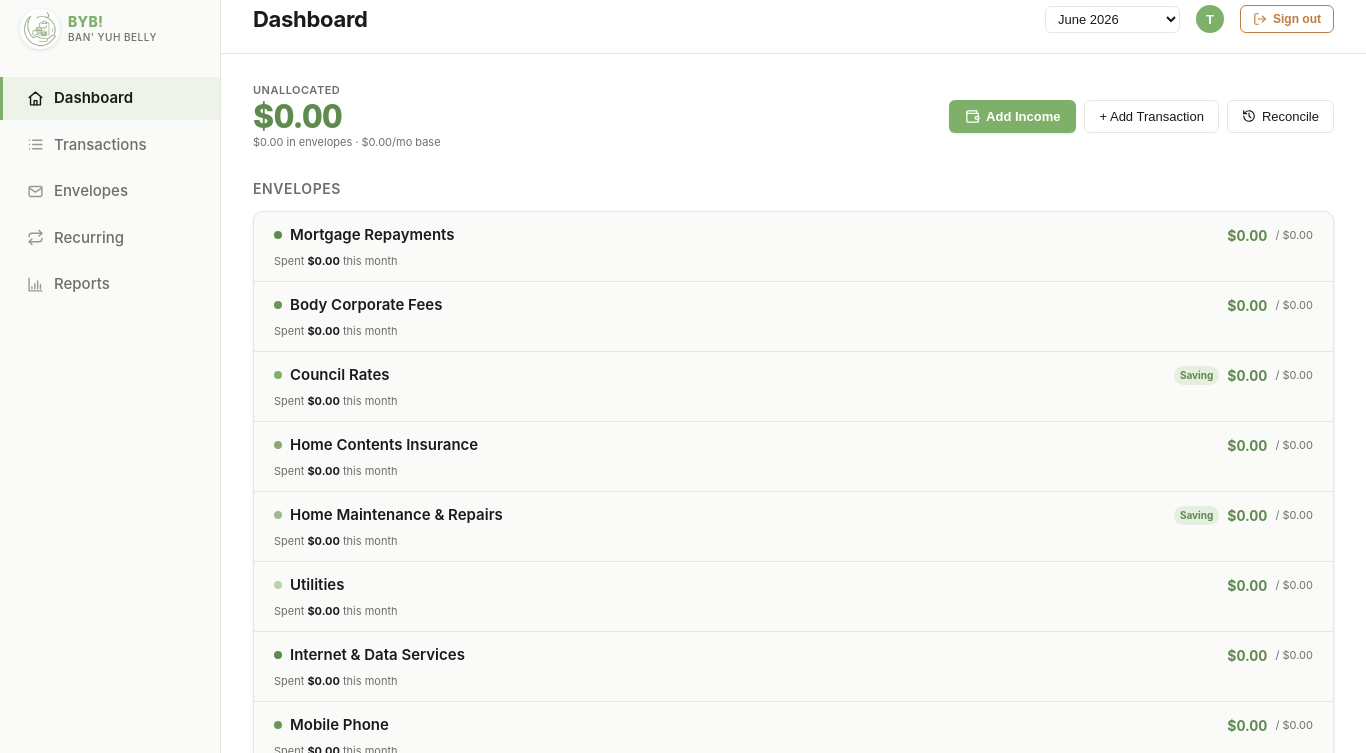
Scenario: Add Income flow › split allocation puts money straight into the chosen envelope
The image size is (1366, 753).
Click the button with test id "add-income-btn": click(1013, 116) [949,100,1076,133]
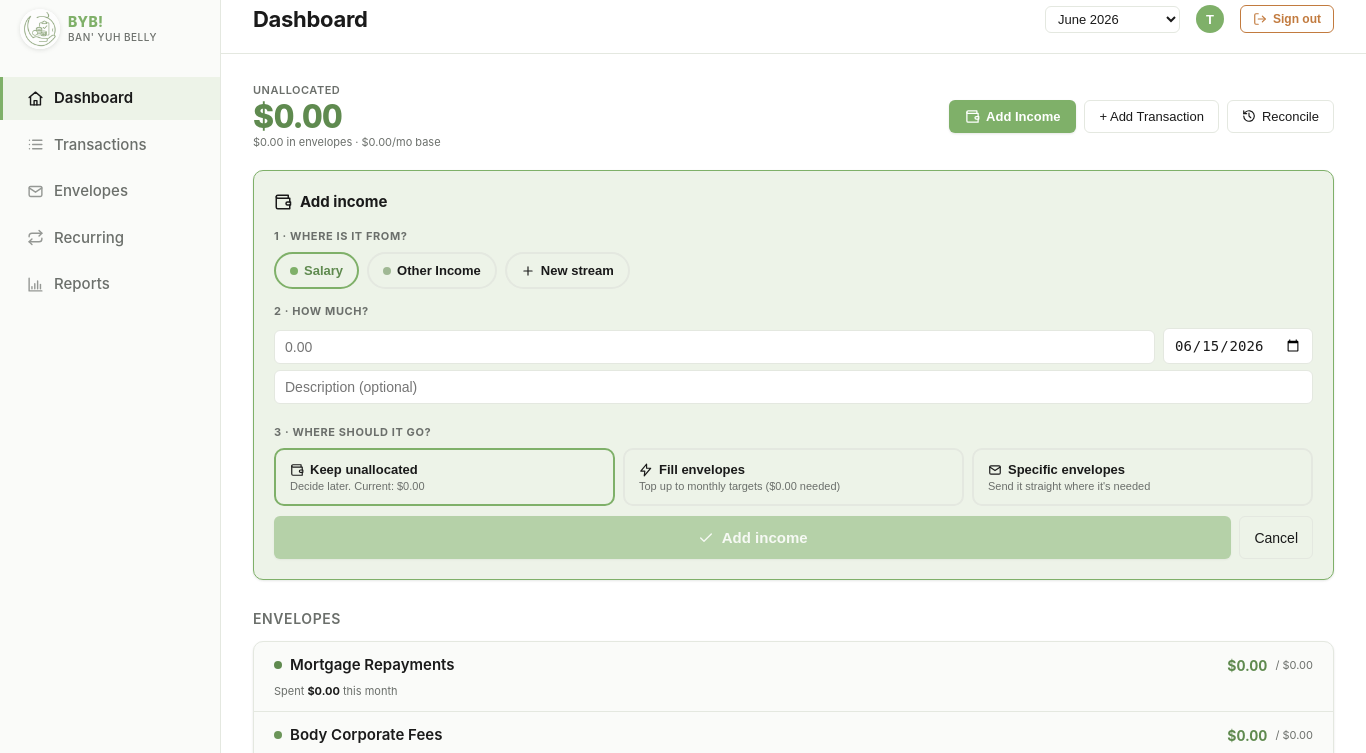
In the number field with test id "income-amount": (714, 347) [274,330,1155,364], type "200"
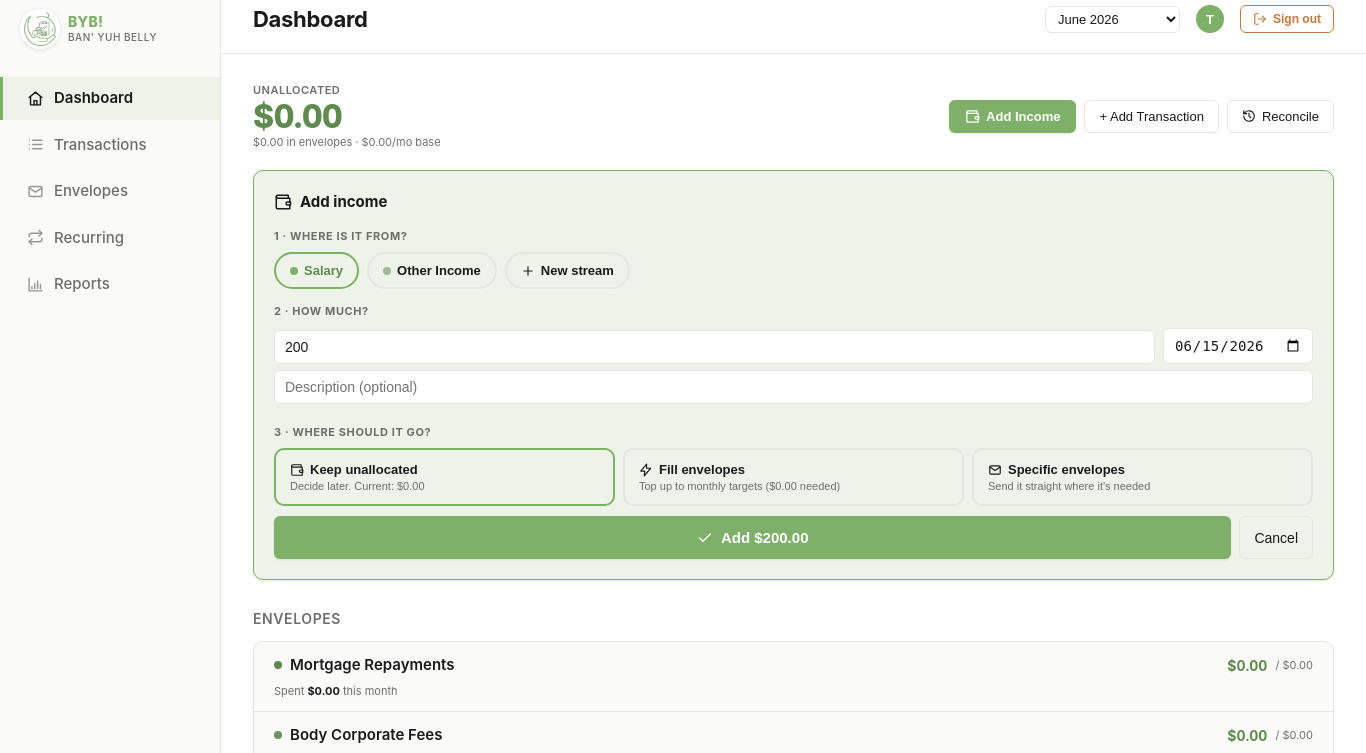
Click the button with test id "alloc-split": click(1142, 477) [972,448,1313,506]
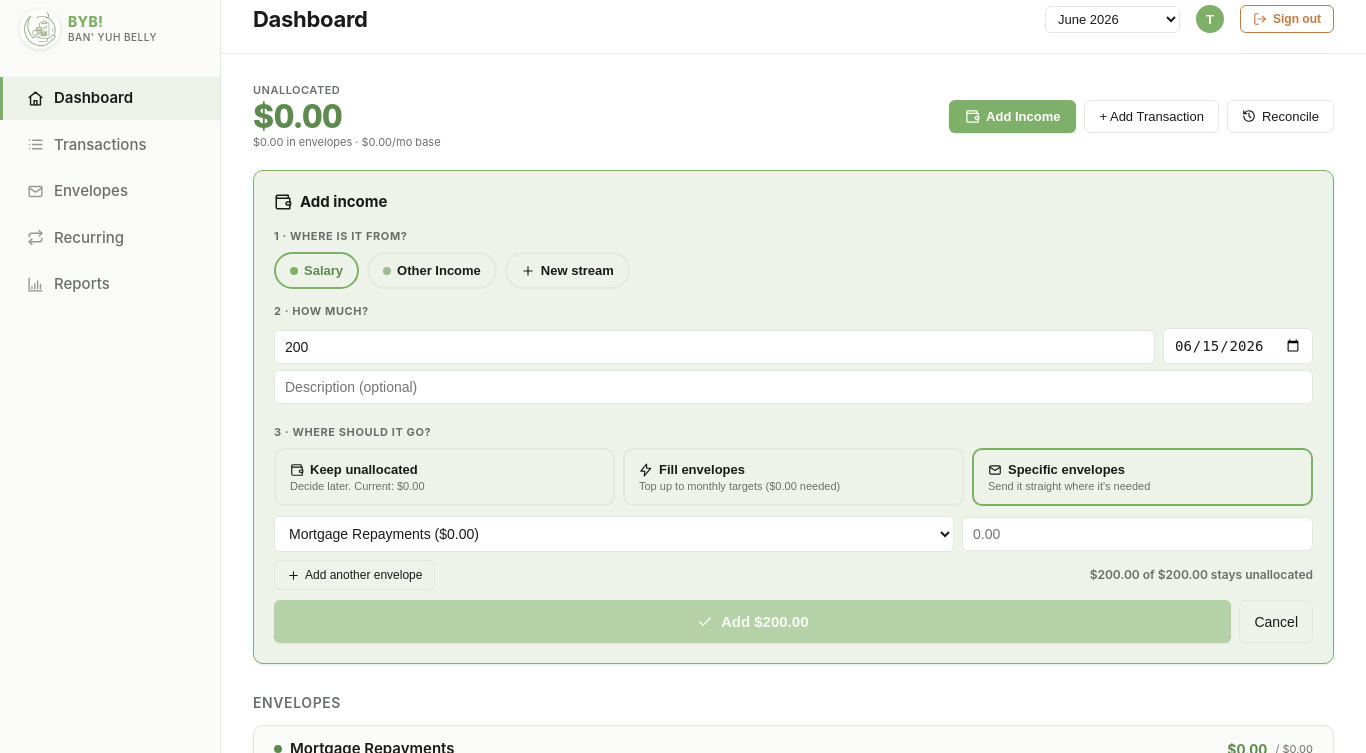
In the number field with placeholder "0.00": (1138, 534) [962,517,1313,551], type "200"
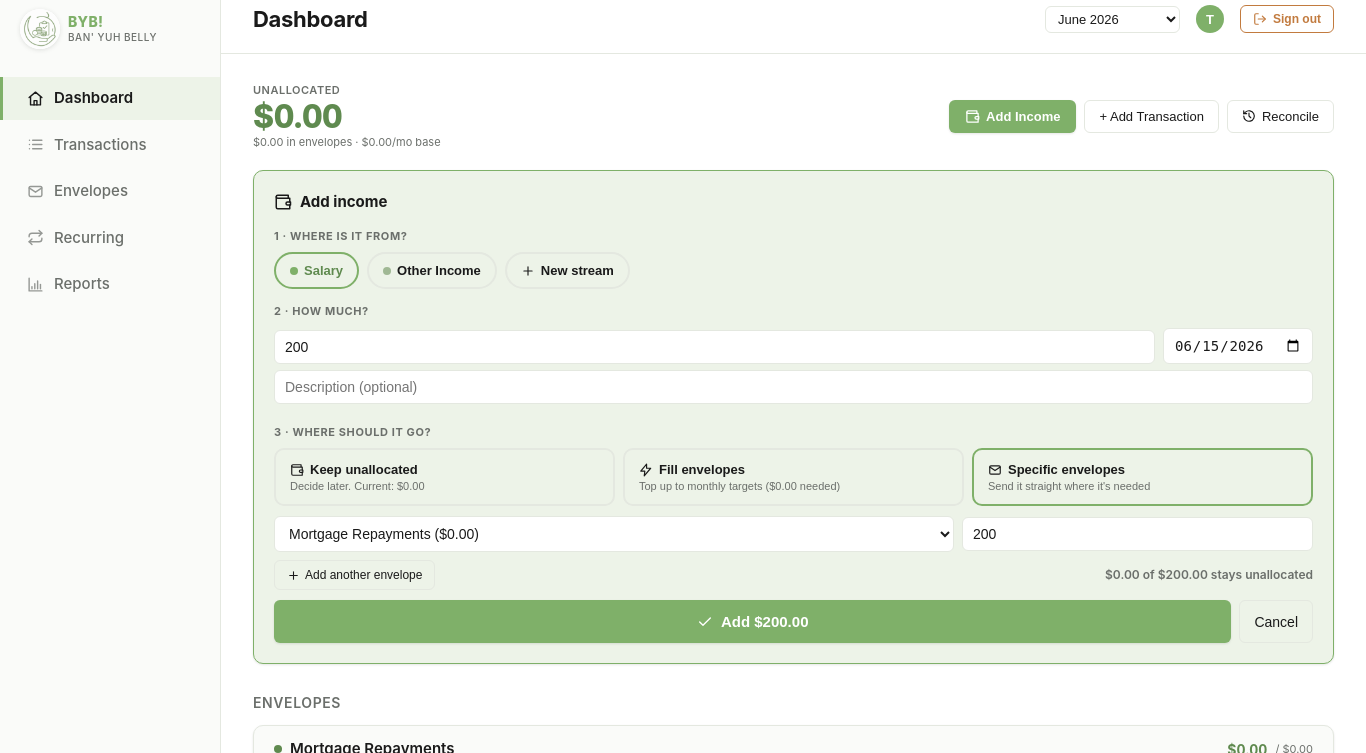
Click the button with test id "income-submit": click(753, 622) [274,600,1231,643]
(page scrolled)
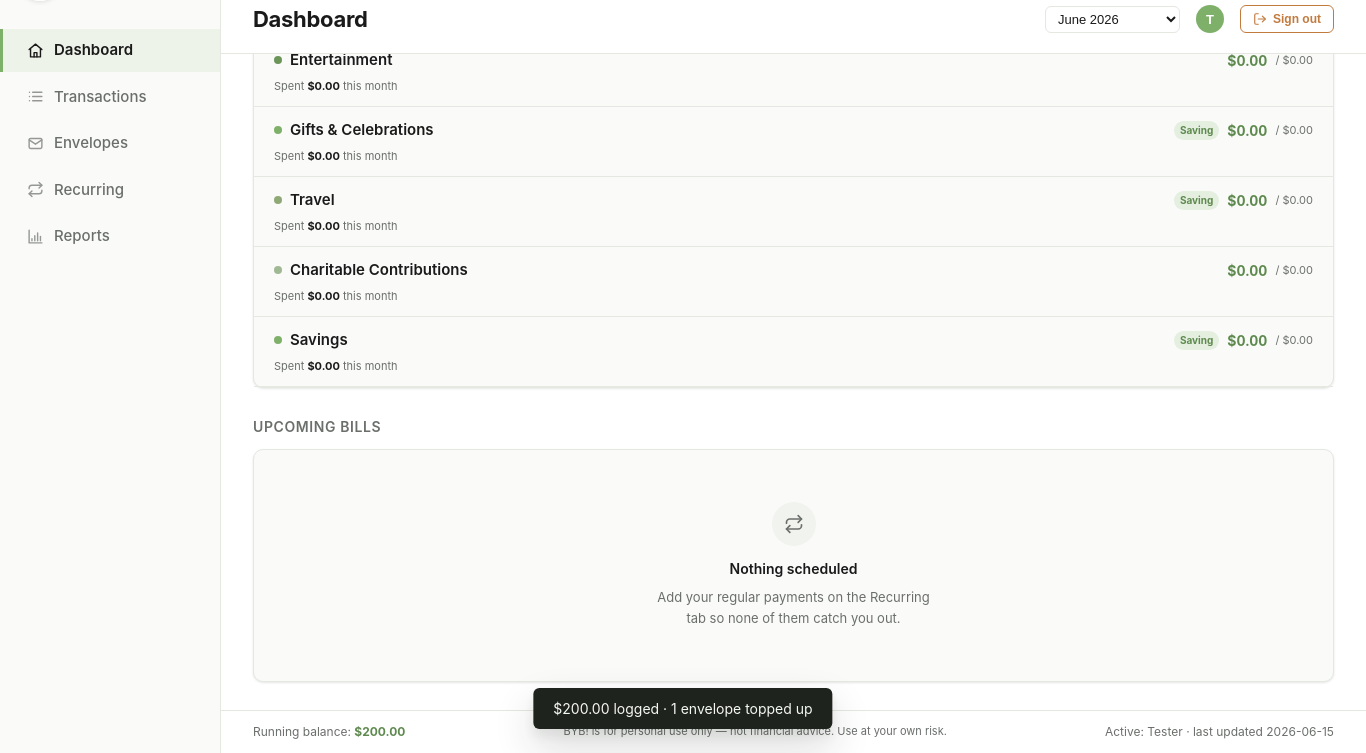
Expected: the text with test id "running-balance" reads "$200.00", [354,724,406,739]
